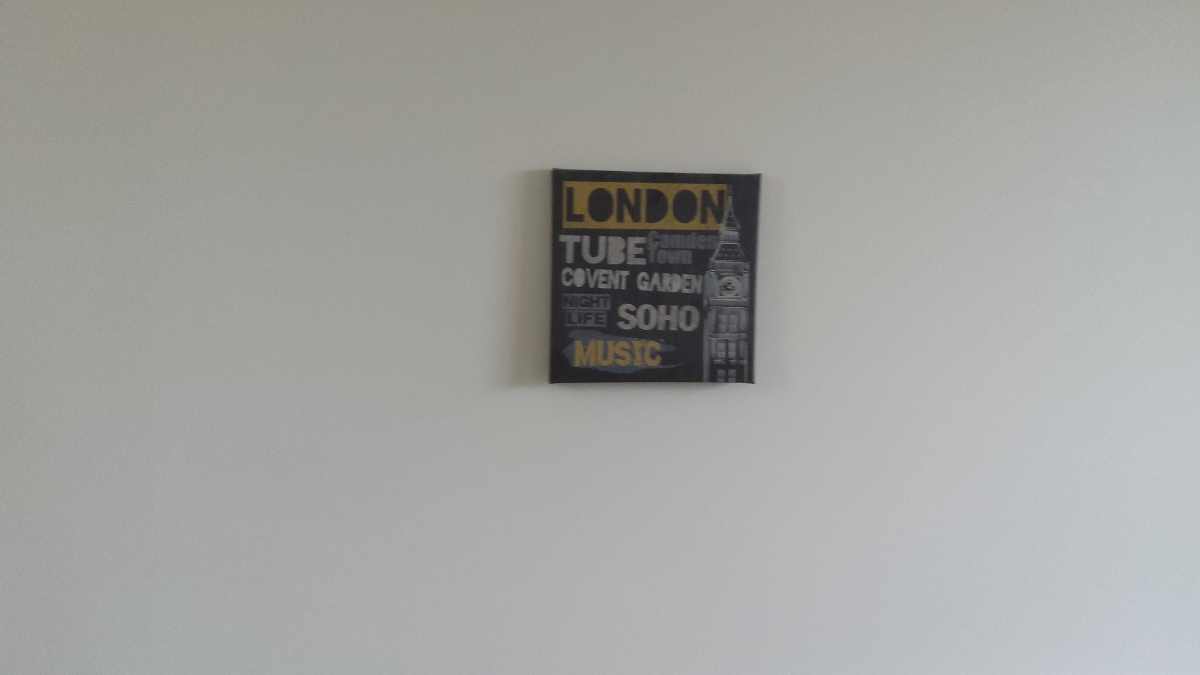poster: (541, 163, 761, 391)
